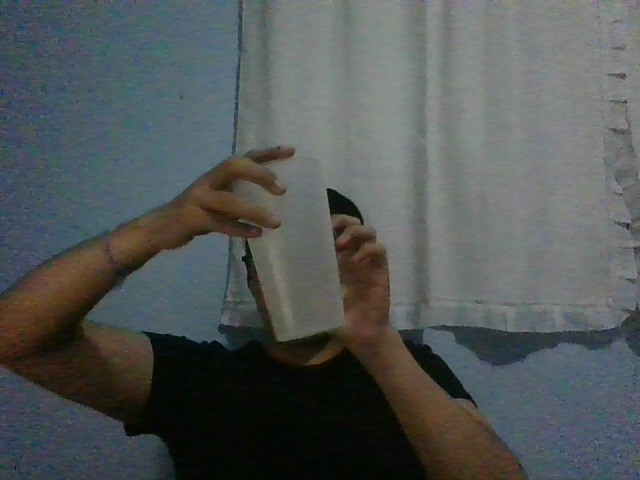vaso: (230, 157, 345, 343)
